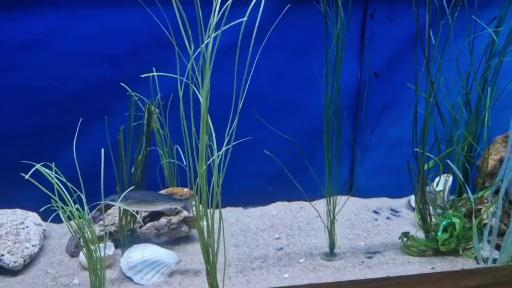Fish: (105, 191, 192, 213)
